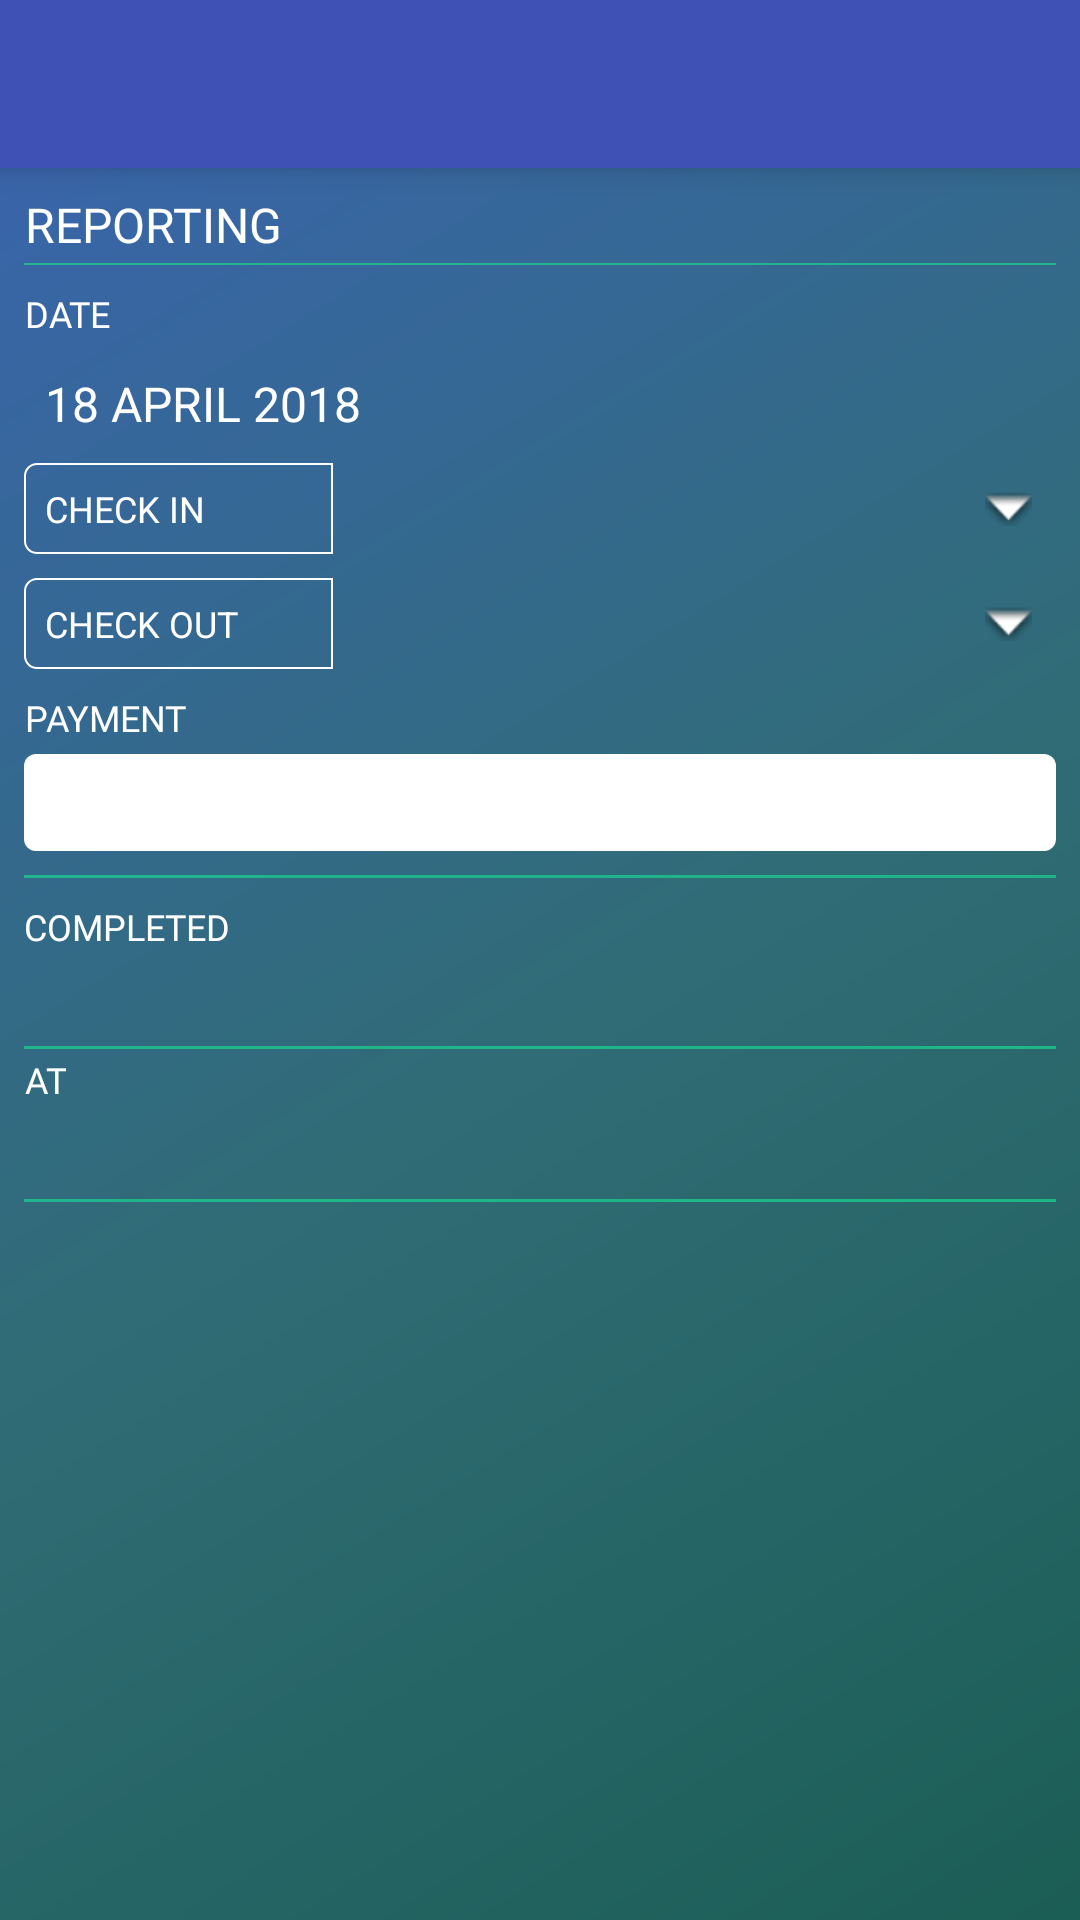

Screen size 1080x1920. Icon name, then its center in pixels as (x=x, y=y):
arrow down float: (x=1008, y=509), (x=1008, y=624)
